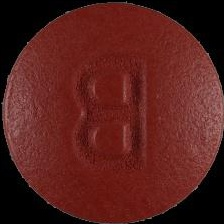0093-5173: (0, 0, 224, 224)
